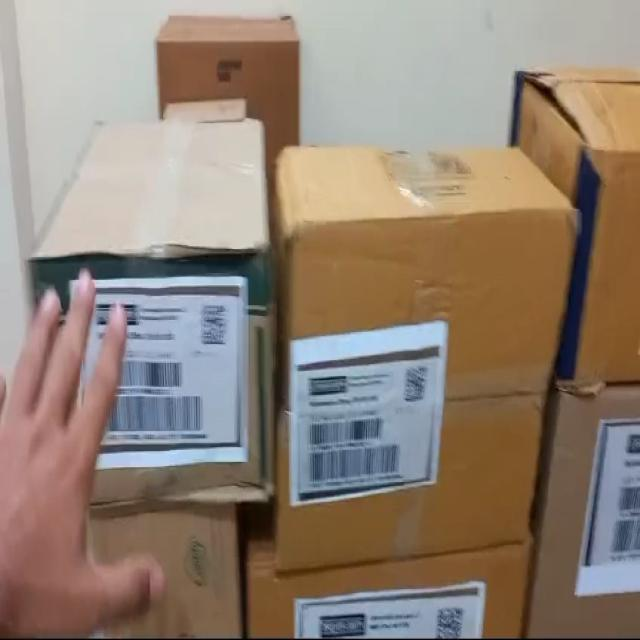BoxFace: (274, 140, 581, 575), (25, 108, 277, 522)
